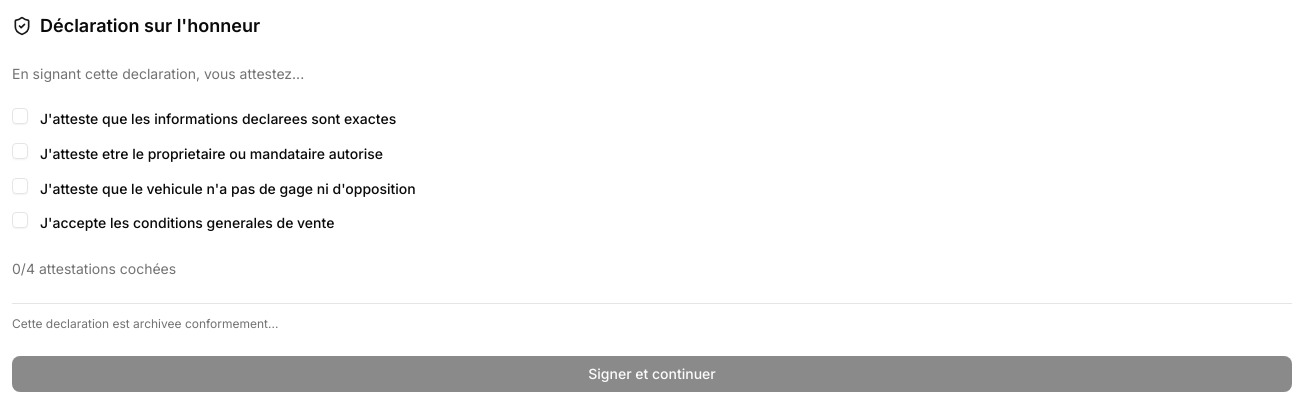
Test: DeclarationForm › should update progress when checkboxes are toggled
Click the checkbox with test id "declaration-checkbox-0" at [20, 116], box [12,108,28,124]
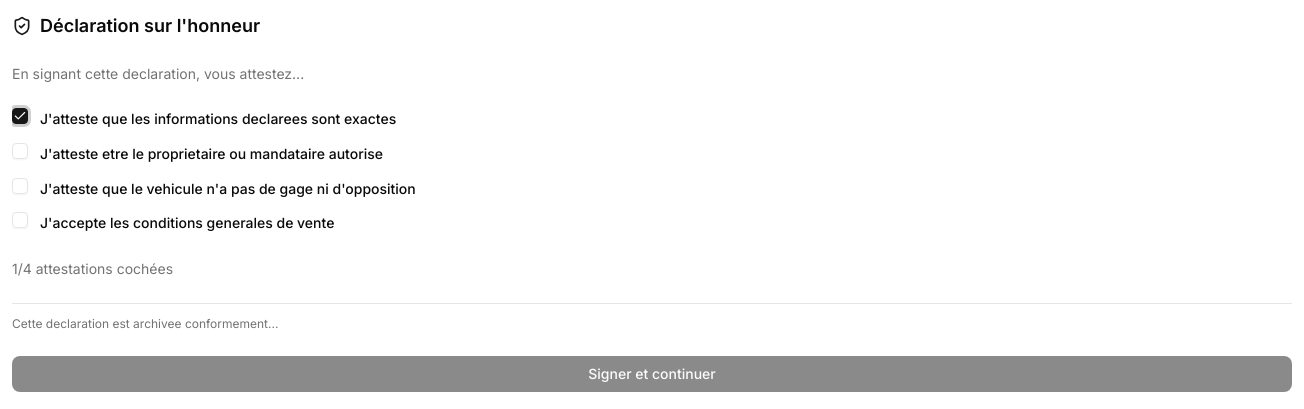
Check: the text with test id "declaration-progress" shows "1/4 attestations", box [12,260,173,277]
Click the checkbox with test id "declaration-checkbox-1" at [20, 151], box [12,143,28,159]
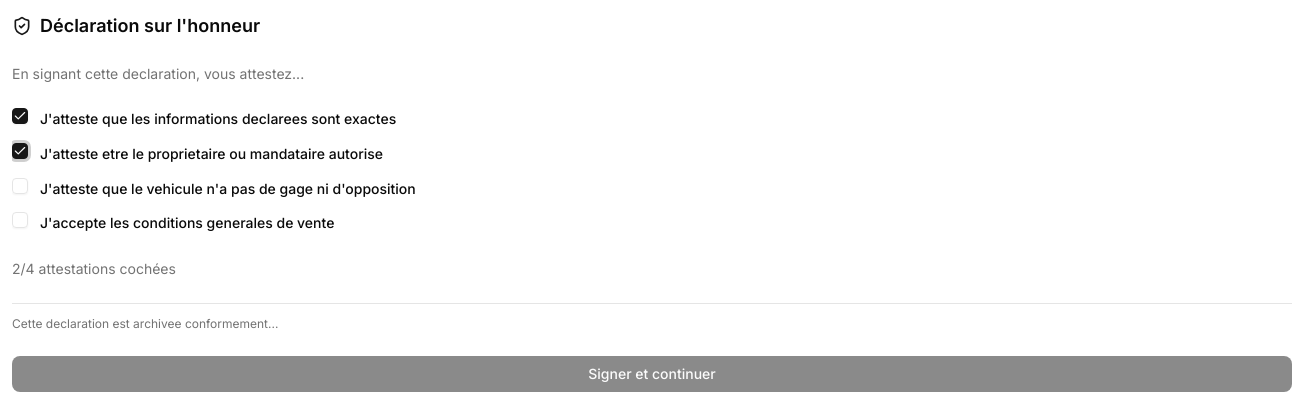
Check: the text with test id "declaration-progress" shows "2/4 attestations", box [12,260,176,277]
